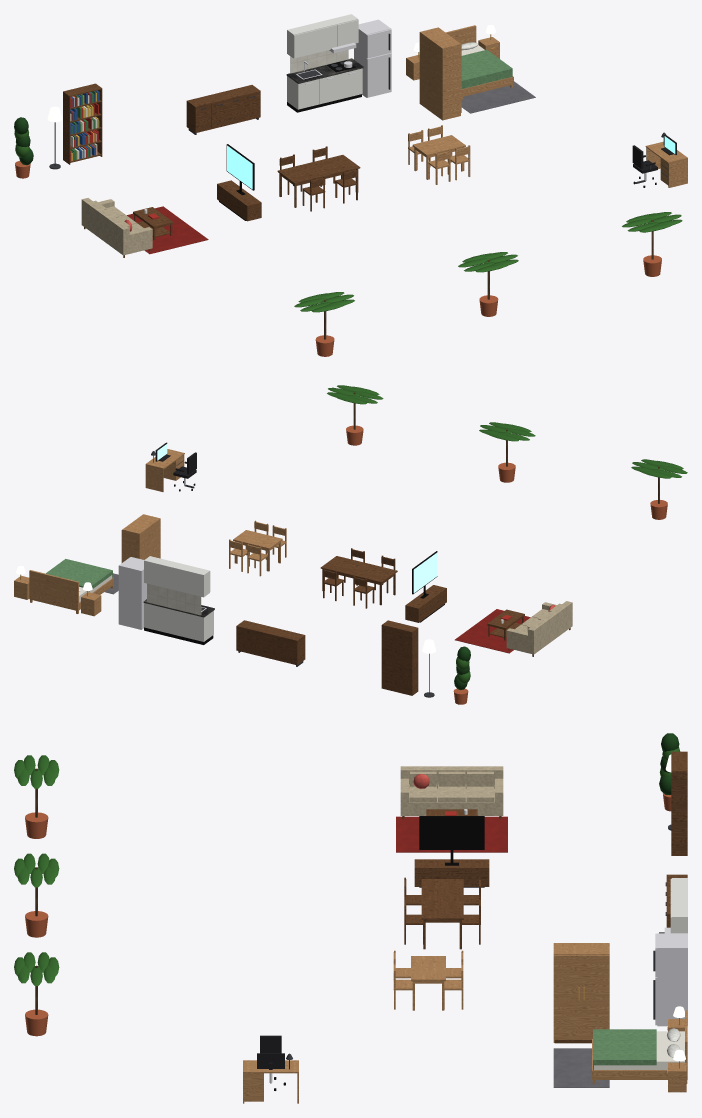
Rendered from i_spanish_hacienda.gltf.
The picture shows the model from 3 angles, top to bottom: view 1: azimuth 30°, elevation 25°; view 2: azimuth 150°, elevation 25°; view 3: azimuth 270°, elevation 25°; orthographic projection. The views are drawn at different scales.
Parts seen in each view (by area): view 1: I_spanish_hacienda; view 2: I_spanish_hacienda; view 3: I_spanish_hacienda.
Part boxes in pixels (box(x1,y1,x2,y2)): I_spanish_hacienda: box(14, 14, 687, 356); I_spanish_hacienda: box(14, 385, 687, 704); I_spanish_hacienda: box(14, 733, 687, 1103).
Size of the model in its own units: 15.29 by 2.2 by 14.45.
Materials: 31 (12 with a texture image).
